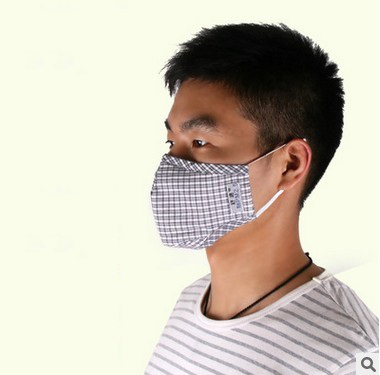face_mask: (151, 66, 267, 246)
